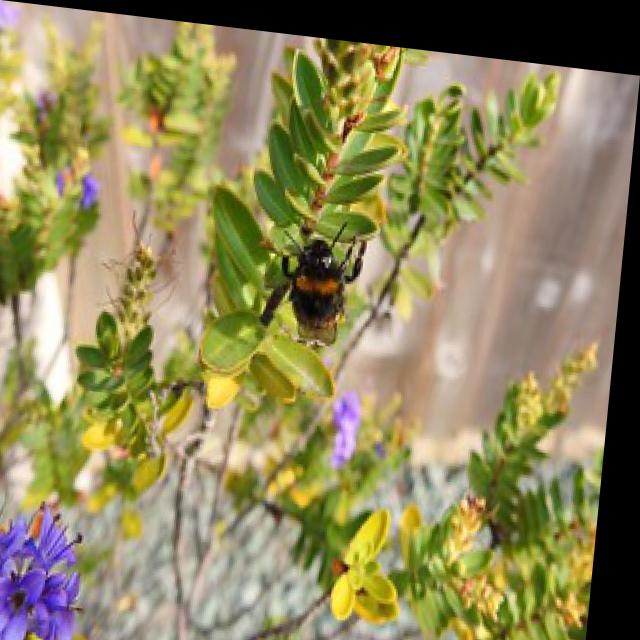Abeille: (264, 197, 392, 364)
